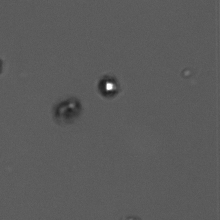Dead Cell: (56, 100, 78, 119)
Living Cell: (102, 79, 118, 93)
